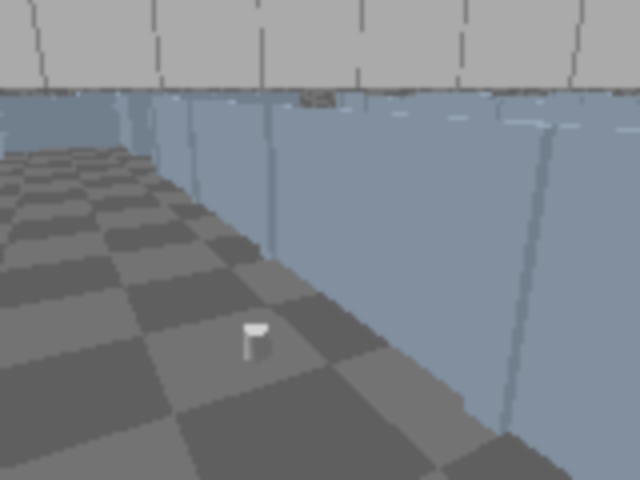puck: (247, 324, 267, 361)
